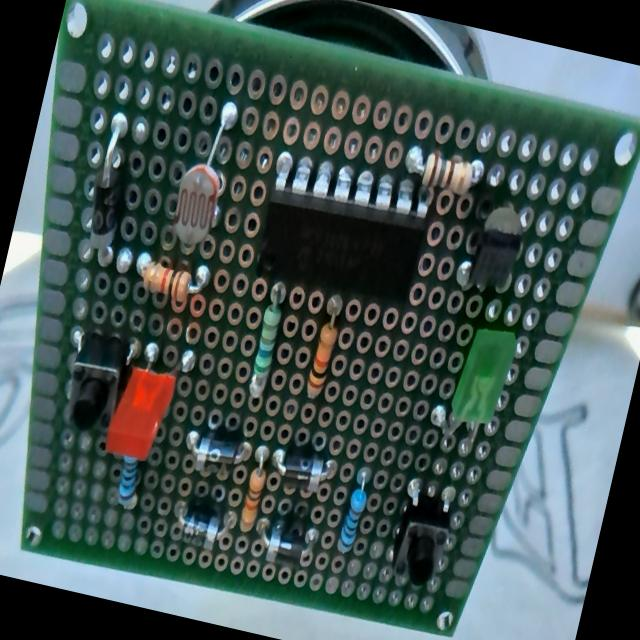cds: (164, 95, 245, 256)
diode: (79, 119, 139, 255), (182, 425, 250, 478), (252, 514, 314, 570), (270, 444, 334, 496), (172, 500, 234, 549)
led: (423, 314, 517, 462), (101, 356, 180, 466)
resistor: (130, 249, 212, 318), (245, 282, 288, 398), (303, 294, 345, 400), (404, 146, 484, 198), (336, 465, 374, 557), (236, 442, 273, 532), (110, 455, 146, 512)
switch: (58, 328, 132, 437), (384, 489, 457, 593)
transistor: (467, 199, 530, 296)
